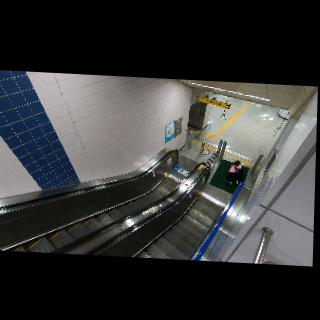anomaly: (224, 157, 245, 188)
